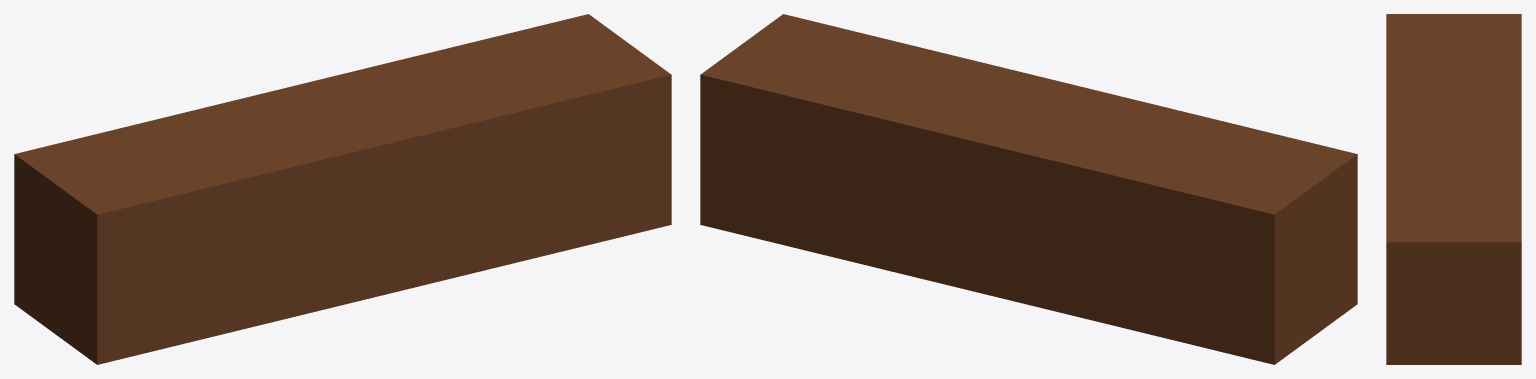
The model's file is patty.glb.
The picture shows the model from 3 angles, left to right: view 1: azimuth 30°, elevation 25°; view 2: azimuth 150°, elevation 25°; view 3: azimuth 270°, elevation 25°; orthographic projection. The views are drawn at different scales.
Visible parts, largest first — view 1: patty; view 2: patty; view 3: patty.
Boxes of the visible parts, x1,y1,x2,y2 form: patty: (14, 14, 671, 364); patty: (700, 14, 1357, 364); patty: (1386, 14, 1521, 364).
Size of the model in its own units: 0.2 by 0.05 by 0.05.
Materials: 1 (1 with a texture image).
